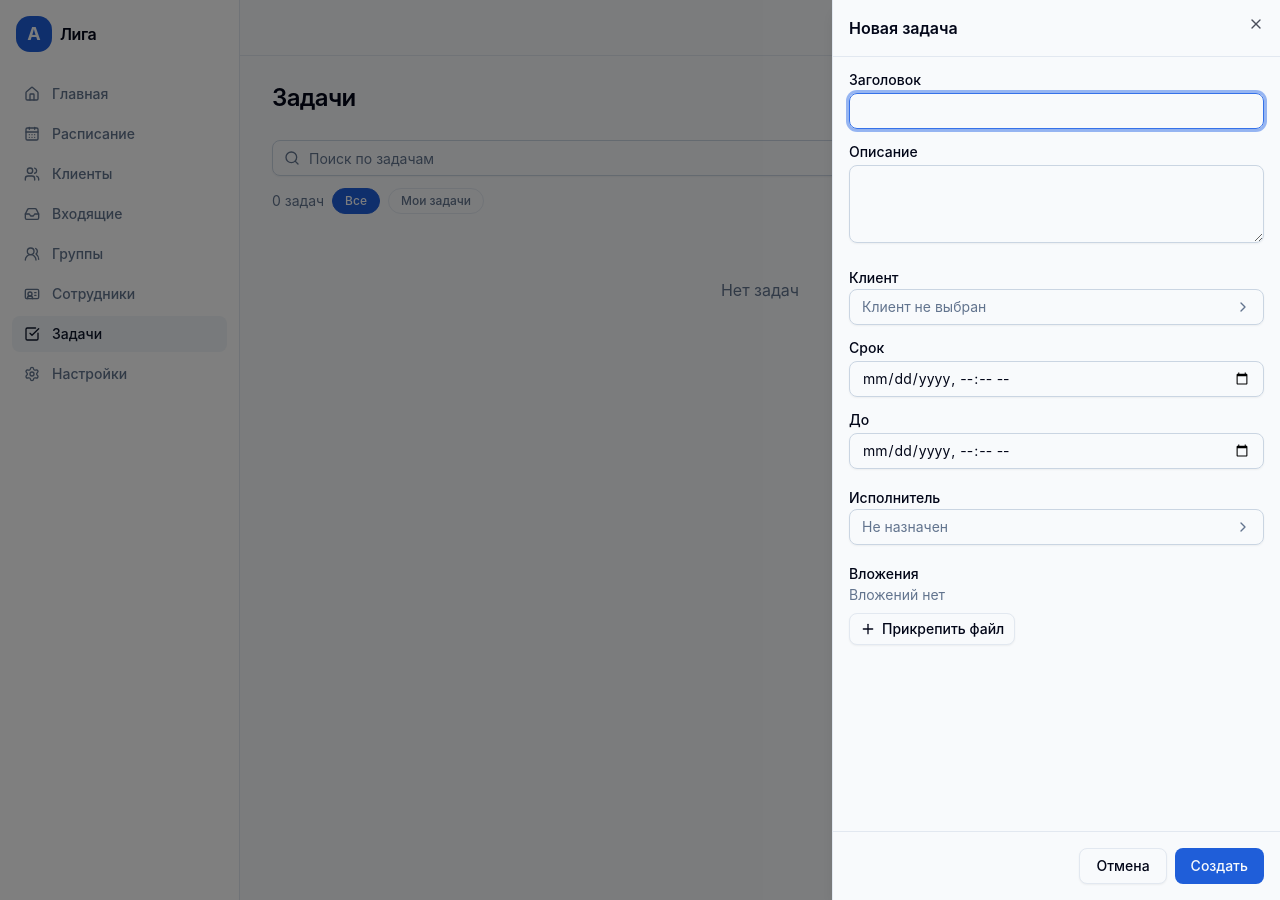
Test case: создание задачи › требует заголовок
Click the button "Создать" at (1219, 866), box [1175,848,1264,884]
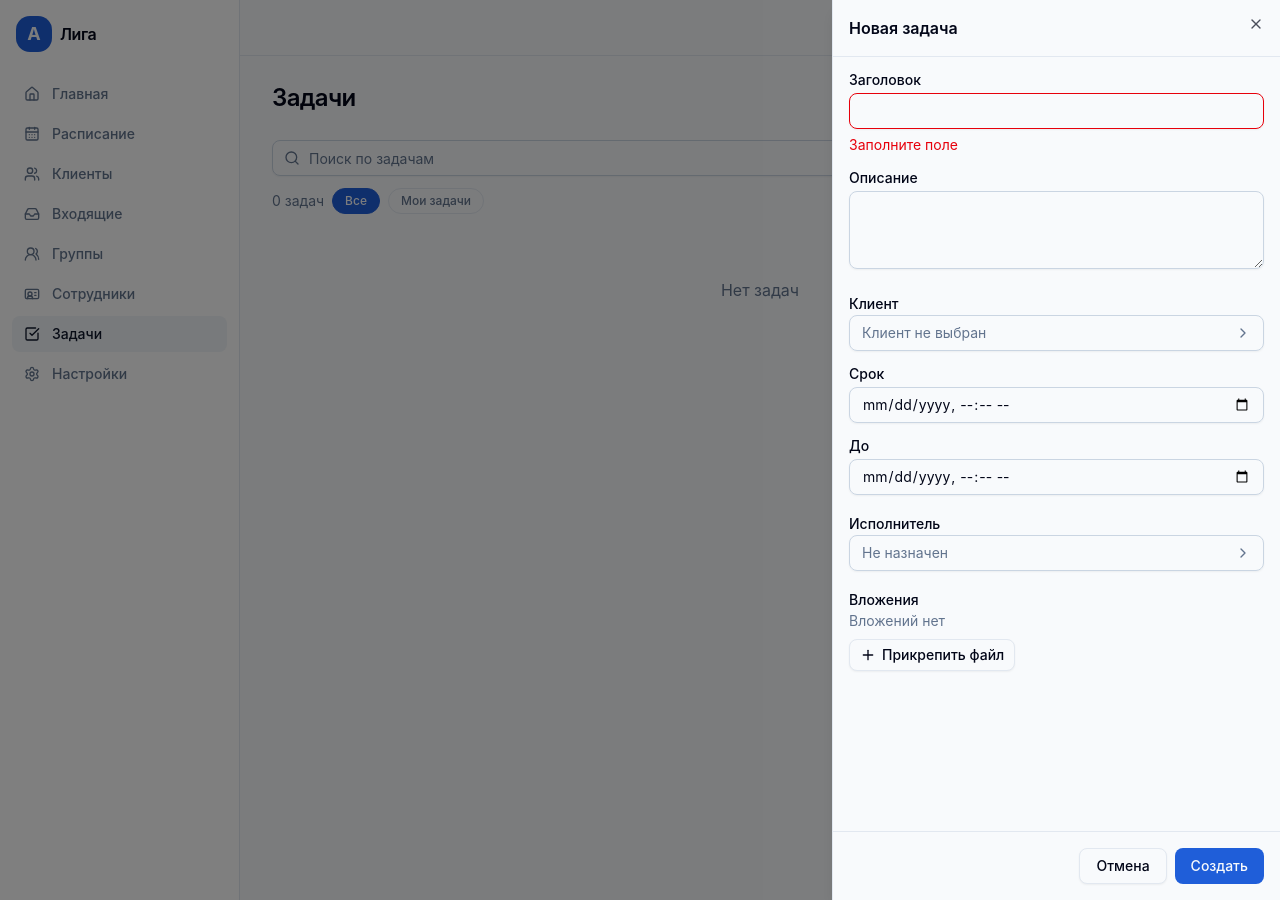
Check: the text "Заполните поле" is shown, box [849,136,958,153]
